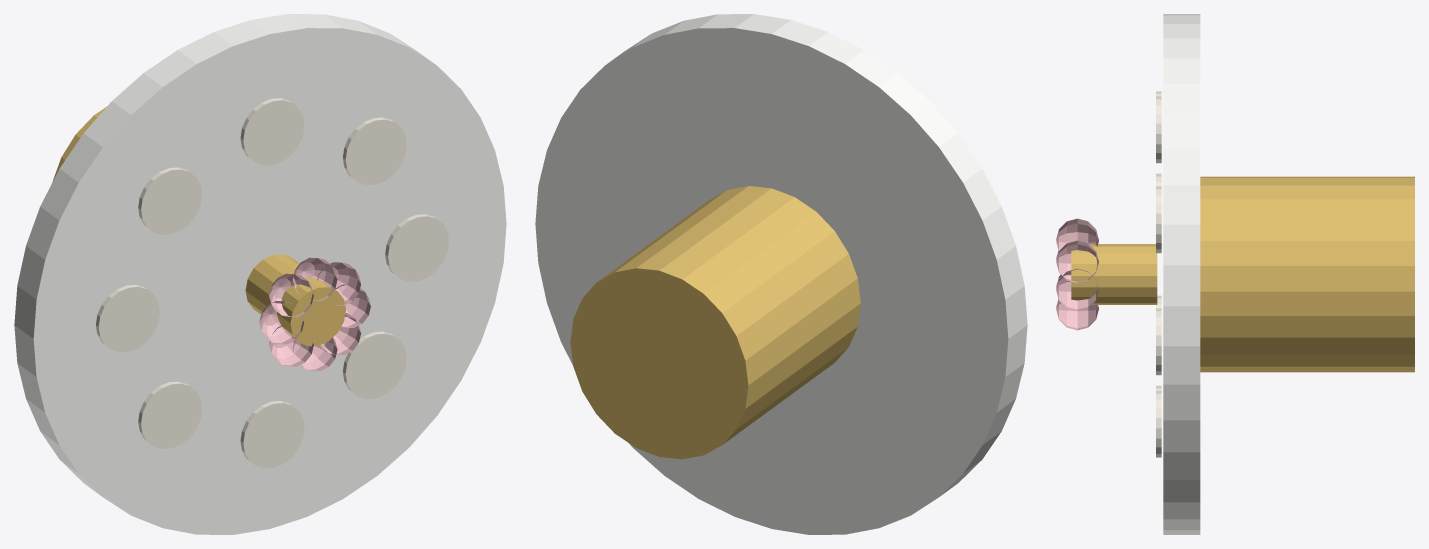
File: round_banquet_table.glb
The picture shows the model from 3 angles, left to right: view 1: azimuth 30°, elevation 25°; view 2: azimuth 150°, elevation 25°; view 3: azimuth 270°, elevation 25°; orthographic projection. The views are drawn at different scales.
Parts seen in each view (by area): view 1: linen, plate (×8), flower (×8), centerpiece; view 2: linen, base; view 3: base, linen, centerpiece, flower (×4).
Boxes of the visible parts, <box> form: linen: <box>14,14,506,534</box>; plate (×8): <box>96,98,449,468</box>; flower (×8): <box>259,257,370,370</box>; centerpiece: <box>245,254,345,346</box>; linen: <box>535,14,1027,534</box>; base: <box>570,186,860,459</box>; base: <box>1200,176,1414,372</box>; linen: <box>1163,14,1200,534</box>; centerpiece: <box>1071,244,1157,304</box>; flower (×4): <box>1056,220,1098,330</box>.
Bounding box in the file's own units: 1.7 × 1.7 × 1.17.
